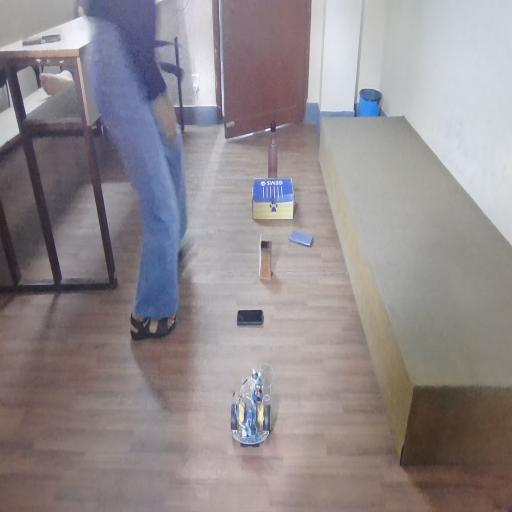Bottle: (264, 113, 287, 180)
car: (224, 360, 282, 462)
